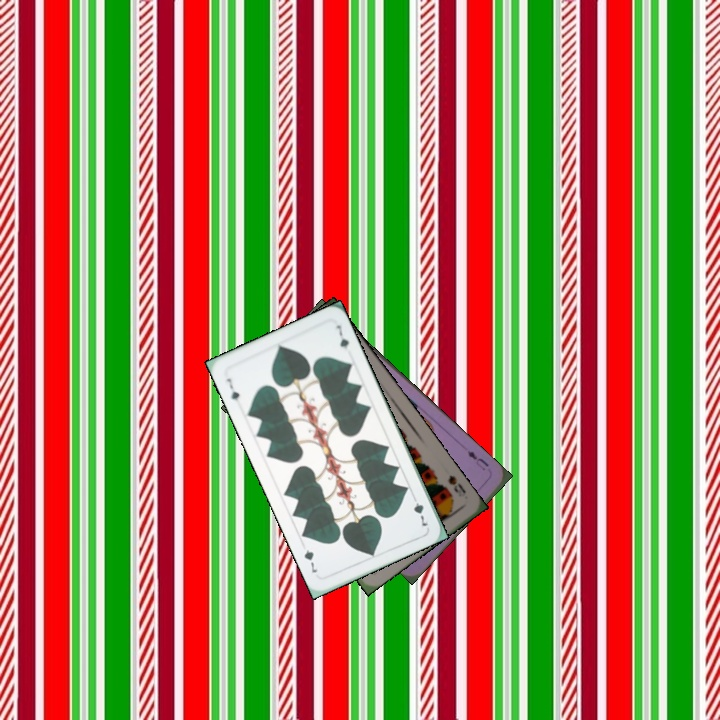EU: (463, 446, 491, 473)
G7: (408, 491, 431, 529), (222, 374, 242, 403)
S8: (444, 471, 469, 500)
